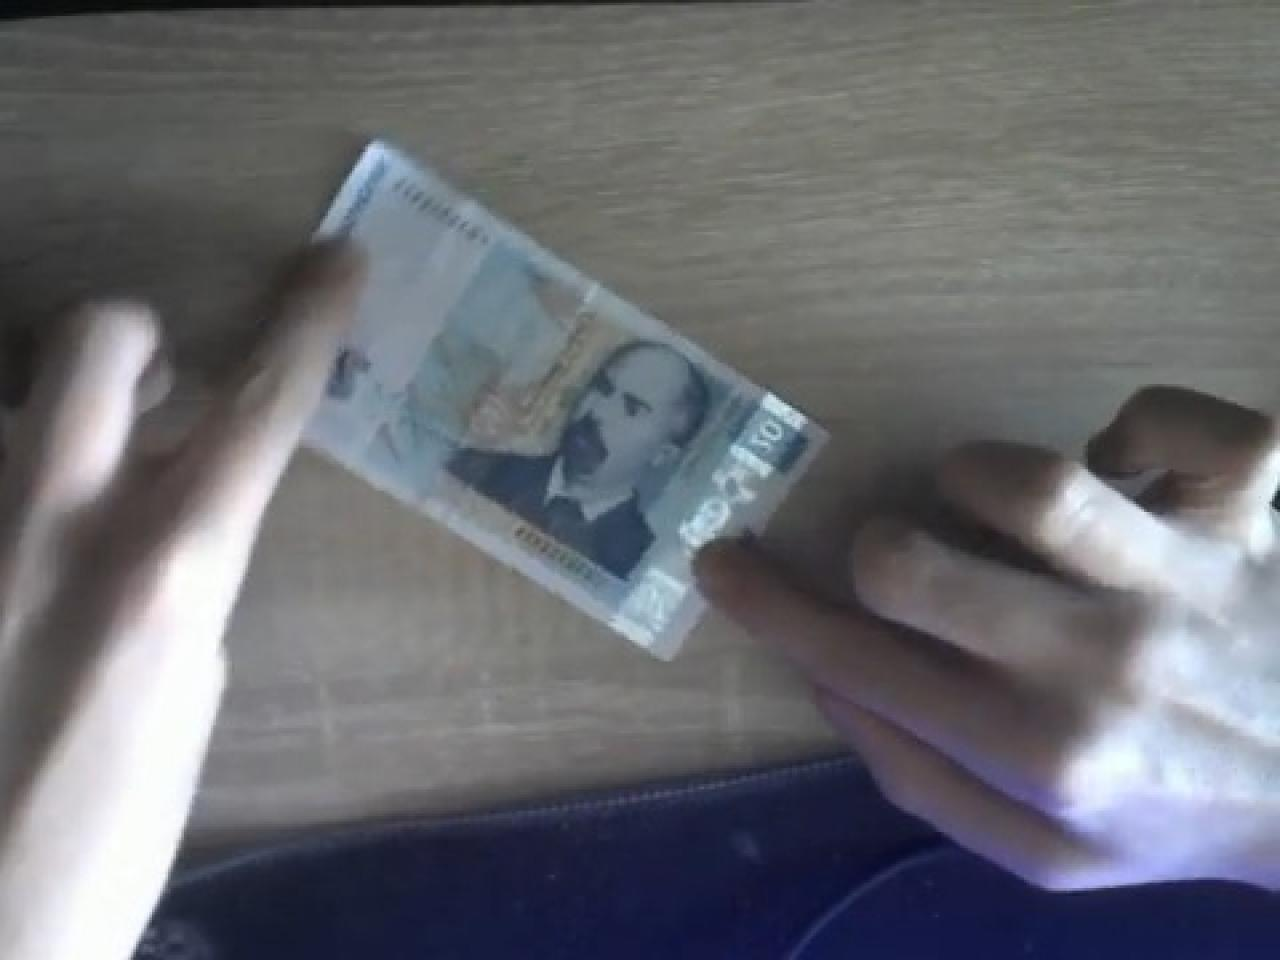20leva: (301, 133, 829, 658)
